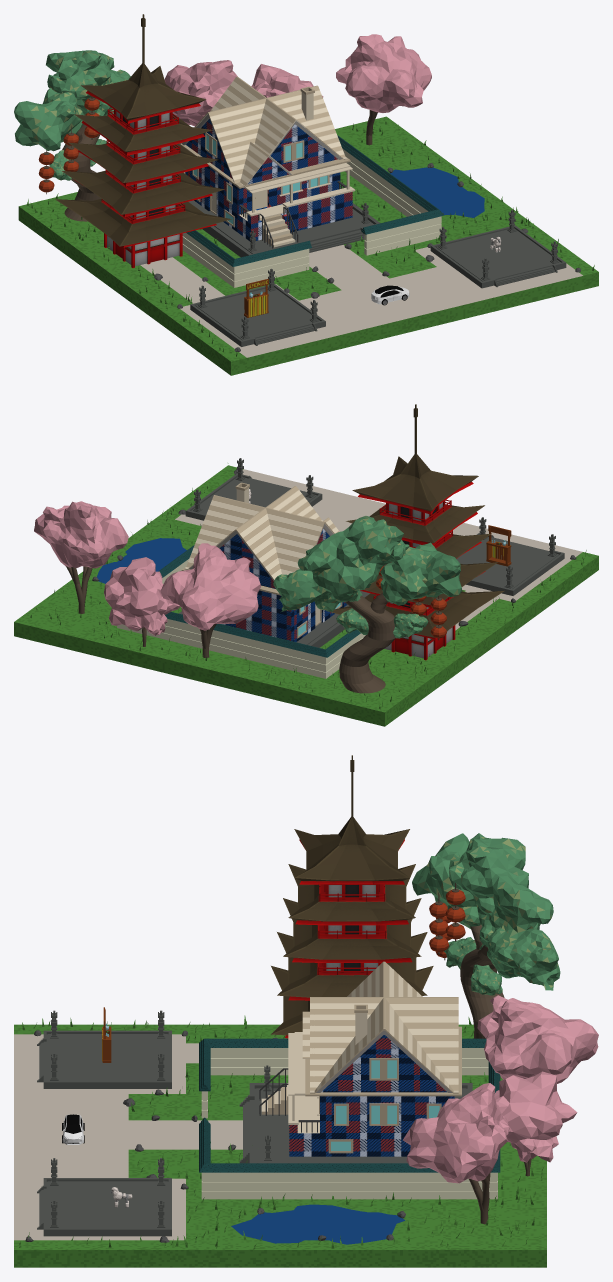
3 views of the same model, one above another, from view 1: azimuth 30°, elevation 25°; view 2: azimuth 150°, elevation 25°; view 3: azimuth 270°, elevation 25° (orthographic). The views are drawn at different scales.
Visible parts, largest first — view 1: Cube.005, Cube.171, OBJRANDOM_LEMONADE_STAND, VEHICLES_TESLA; view 2: Cube.005, Cube.171, OBJRANDOM_LEMONADE_STAND; view 3: Cube.005, Cube.171.
Part boxes in pixels (left/top/right/bottom): Cube.005: left=14, top=14, right=598, bottom=375; Cube.171: left=179, top=76, right=355, bottom=248; OBJRANDOM_LEMONADE_STAND: left=244, top=278, right=268, bottom=317; VEHICLES_TESLA: left=371, top=285, right=409, bottom=305; Cube.005: left=14, top=404, right=598, bottom=726; Cube.171: left=181, top=482, right=347, bottom=641; OBJRANDOM_LEMONADE_STAND: left=486, top=525, right=511, bottom=566; Cube.005: left=14, top=755, right=598, bottom=1267; Cube.171: left=259, top=961, right=461, bottom=1156.
Size of the model in its own units: 4528 by 2698 by 4389.
38 materials, 6 textured.
